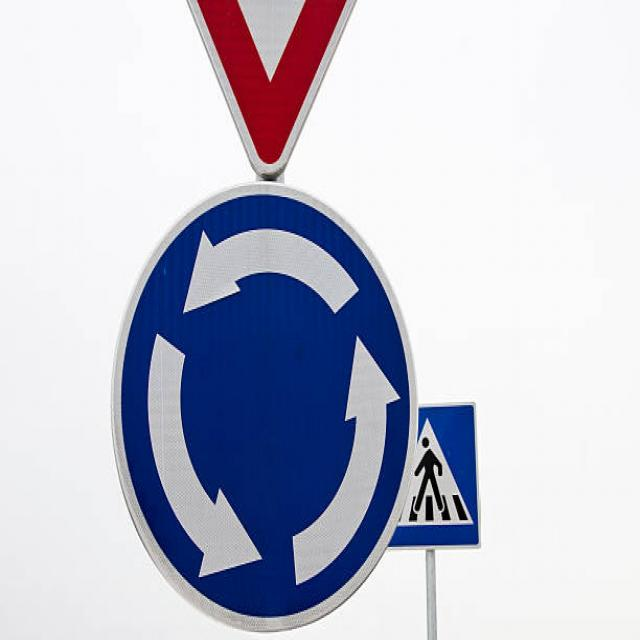round_about: (110, 183, 419, 634)
